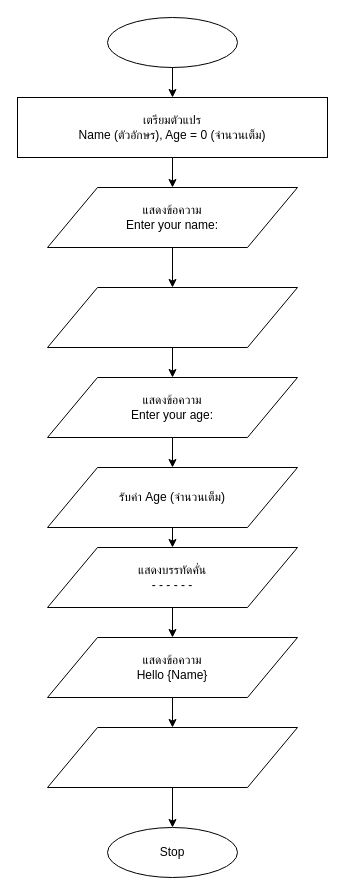
This 345x895 diagram has some shape labels left out. The centre of each missing label's shape, as x and y in pixels:
Start: pixel 172 42
รับค่า Name (สตริงไม่เว้นวรรค): pixel 172 317
แสดงข้อความ Age = {Age}: pixel 172 757
